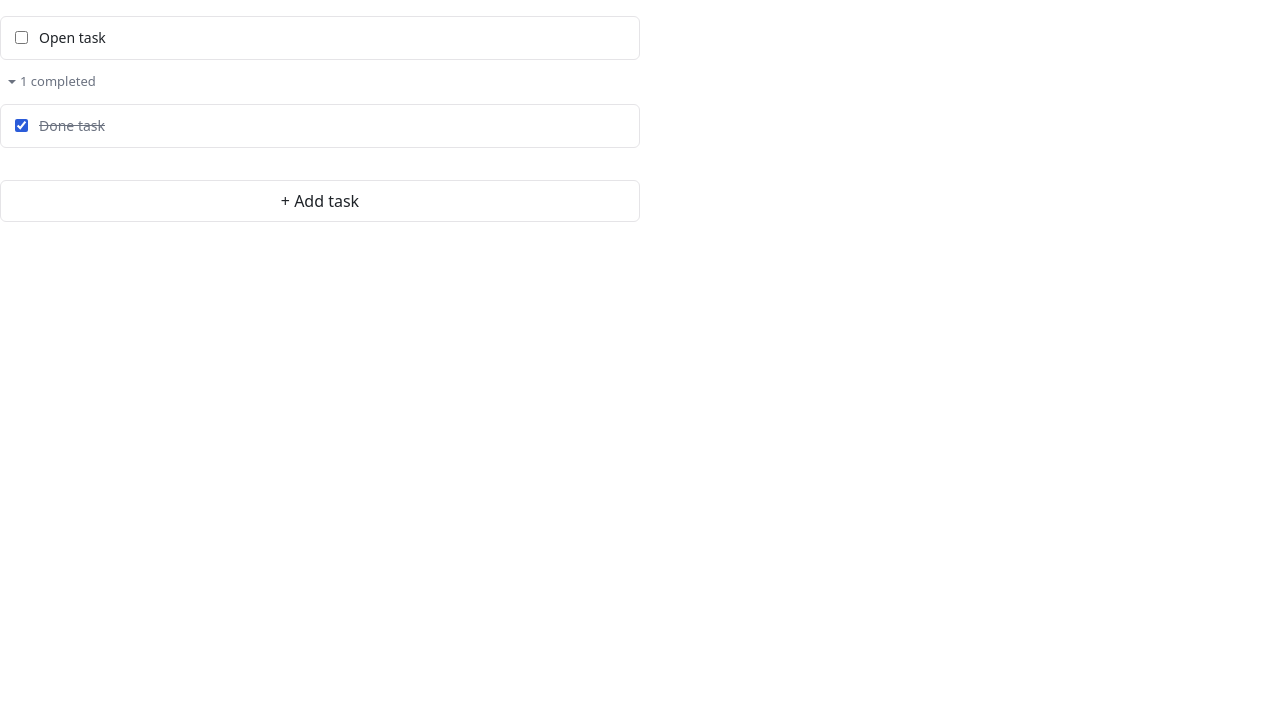
Scenario: TaskList › collapses and expands the completed group without closing that task's open detail dialog
Expected: the text "Open task" is shown, [39,27,106,48]
Expected: the text "Done task" is shown, [39,114,105,136]
Click the button "1 completed" at (53, 82), box [10,68,96,96]
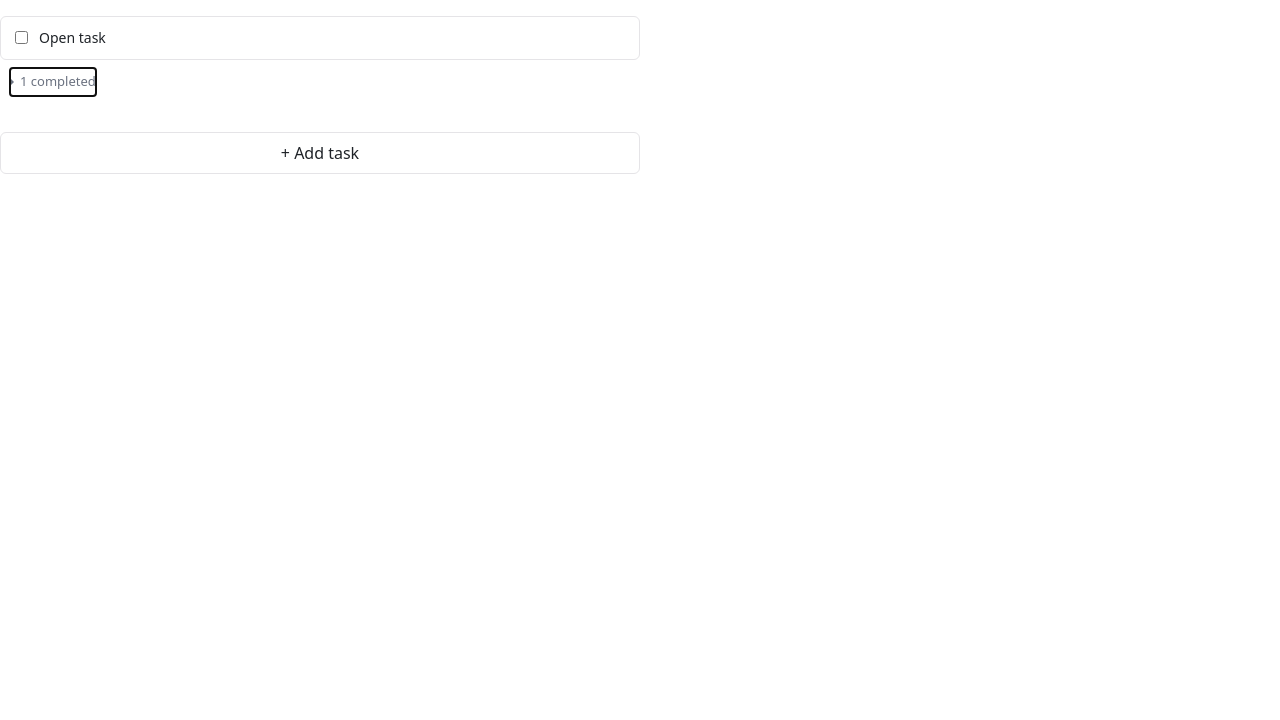
Now the button "Done task" is gone
Click the button "1 completed" at (53, 82), box [10,68,96,96]
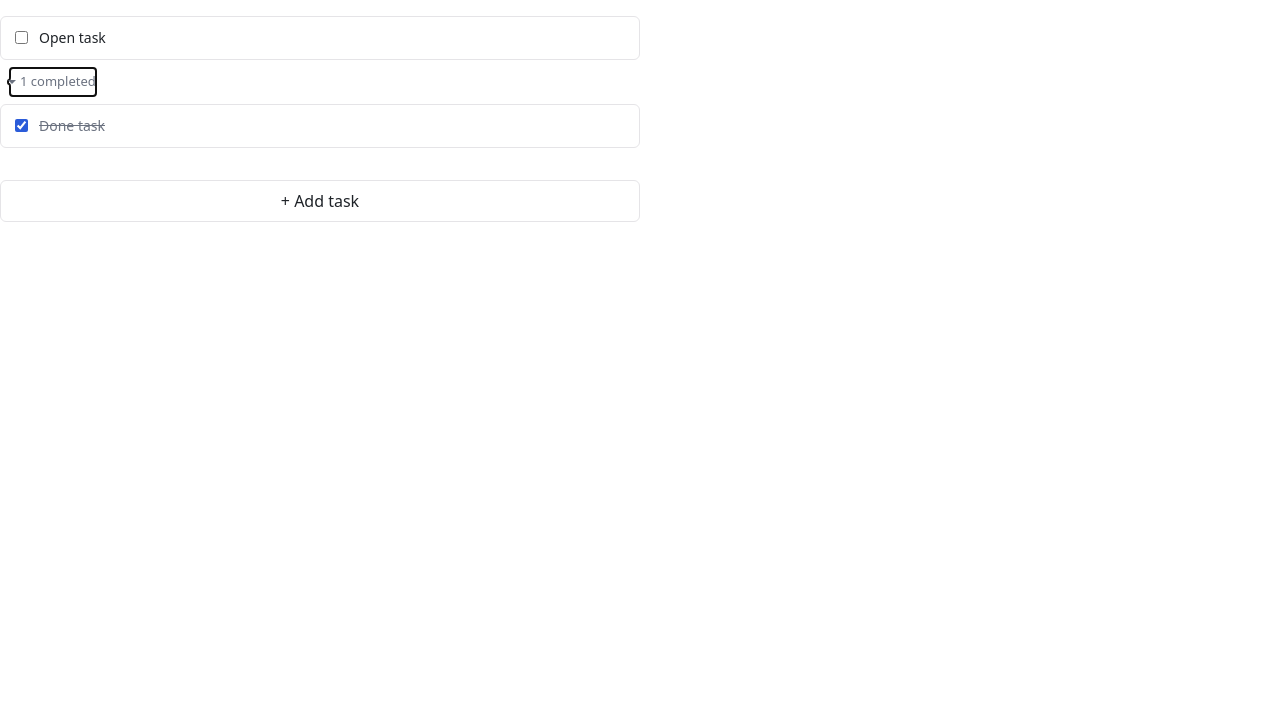
Now the text "Done task" is shown, box [39,114,105,136]
Click the button named "View \"Done task\"" at (72, 125), box [39,114,587,136]
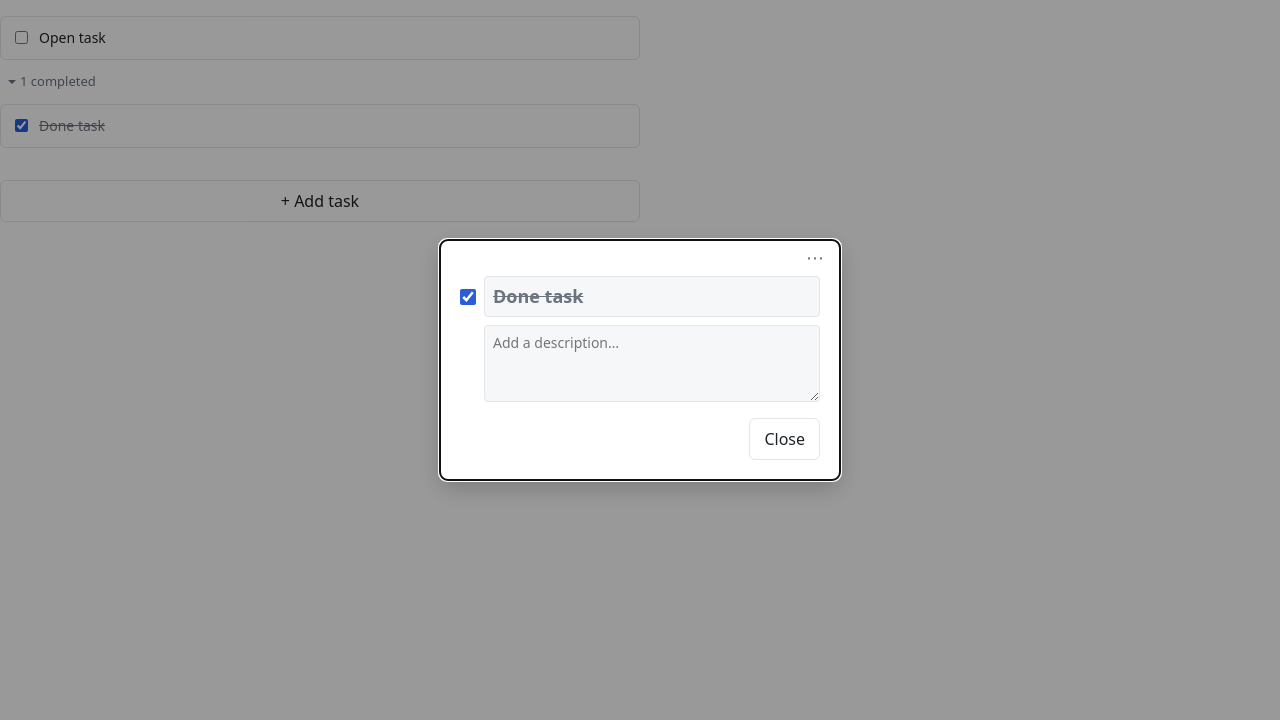
Now the field named "Task title" holds "Done task", box [484,276,820,317]
